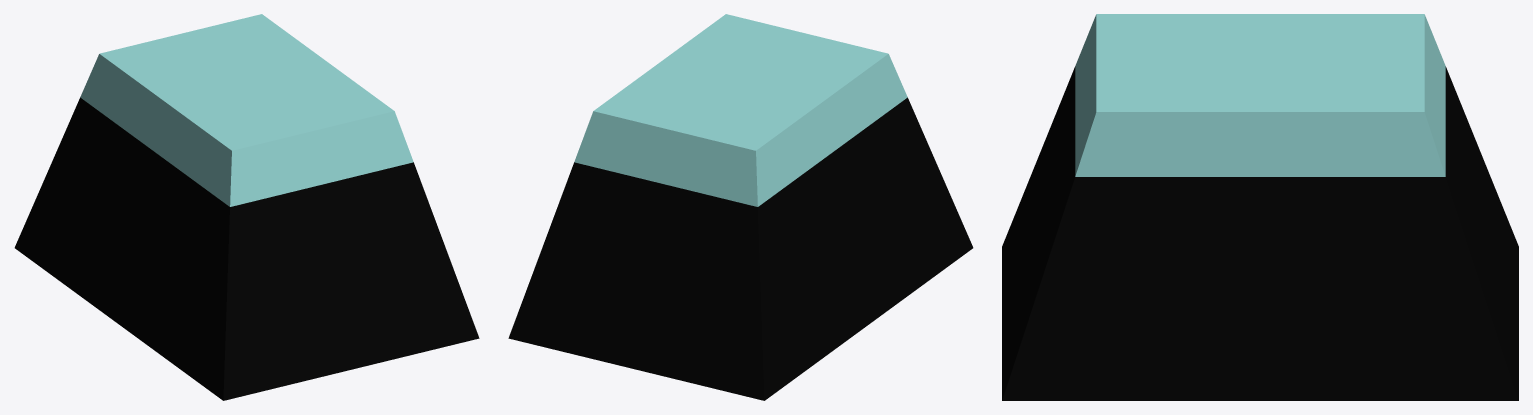
Rendered from Small_Rock.fbx.
The picture shows the model from 3 angles, left to right: view 1: azimuth 30°, elevation 25°; view 2: azimuth 150°, elevation 25°; view 3: azimuth 270°, elevation 25°; orthographic projection. The views are drawn at different scales.
Parts seen in each view (by area): view 1: Rock, Snow; view 2: Rock, Snow; view 3: Rock, Snow.
Boxes of the visible parts, box(x1,y1,x2,y2) form: Rock: box(14, 97, 479, 400); Snow: box(80, 14, 413, 206); Rock: box(508, 97, 973, 400); Snow: box(574, 14, 907, 206); Rock: box(1002, 66, 1518, 400); Snow: box(1075, 14, 1445, 176).
Bounding box in the file's own units: 0.5794 × 0.4558 × 0.8188.
